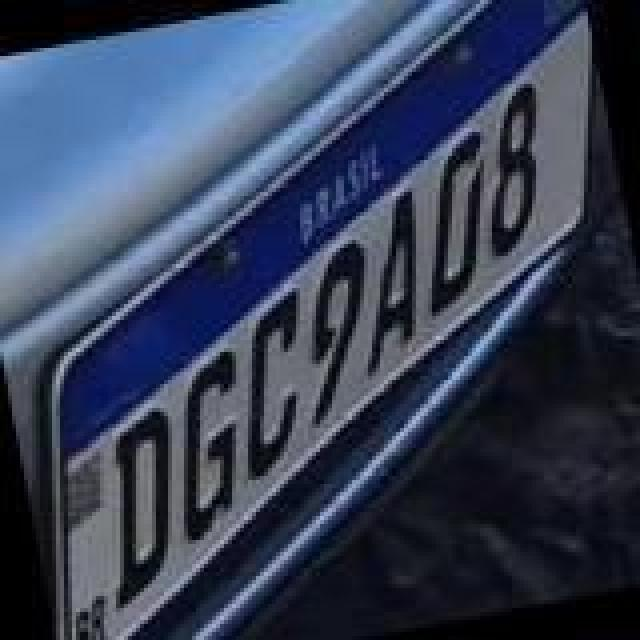8: (458, 76, 566, 260)
9: (276, 238, 396, 434)
A: (330, 186, 446, 382)
C: (212, 286, 332, 482)
D: (82, 402, 206, 614), (394, 128, 518, 320)
G: (146, 346, 270, 550)
